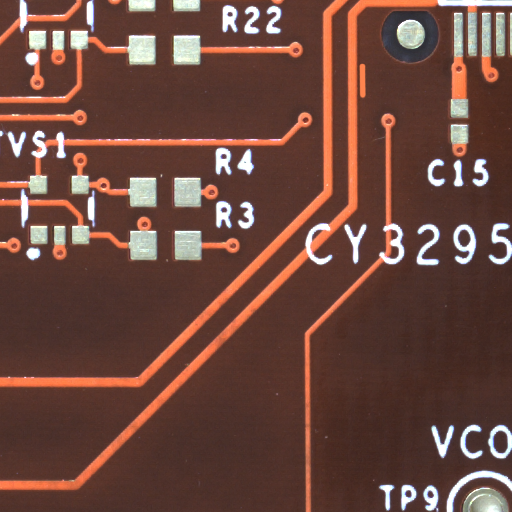Spurious_copper: (362, 79, 370, 118)
